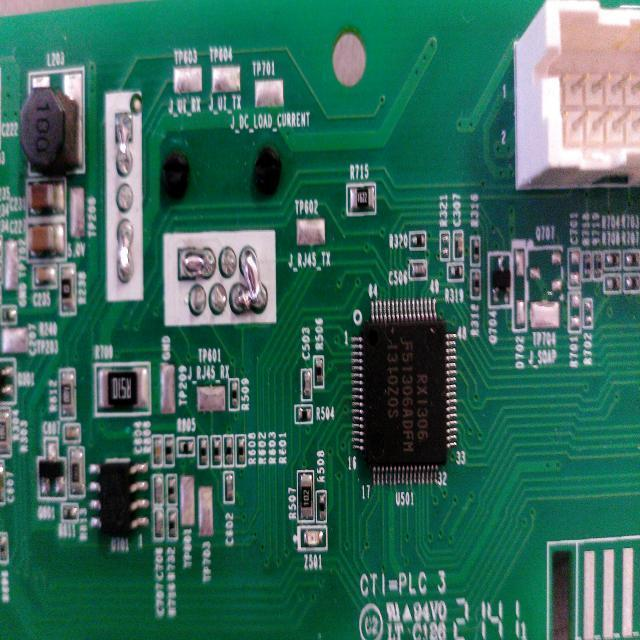Soldering shorted: (230, 243, 270, 319), (172, 243, 217, 283), (114, 109, 134, 178), (116, 216, 135, 286)
